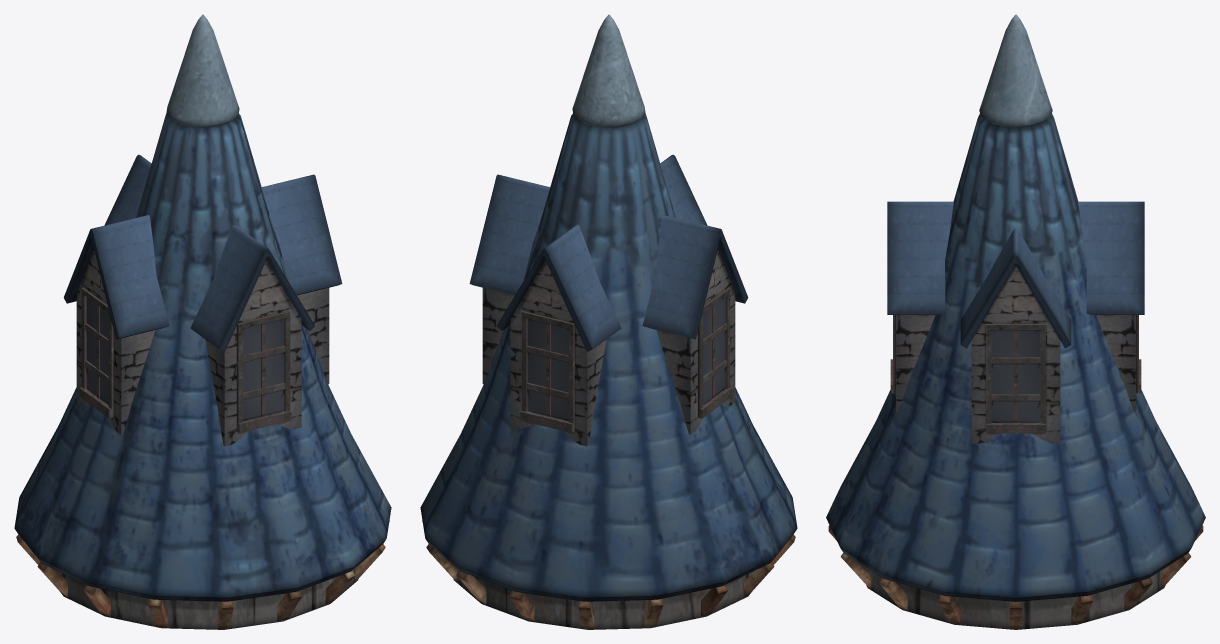
Rendered from sb_obj_outdoor002_DemonsCastle01_CircleWallTop01.fbx.
3 views of the same model, side by side, from view 1: azimuth 30°, elevation 25°; view 2: azimuth 150°, elevation 25°; view 3: azimuth 270°, elevation 25° (orthographic).
Parts seen in each view (by area): view 1: sb_obj_outdoor002_DemonsCastle01_CircleWallTop01; view 2: sb_obj_outdoor002_DemonsCastle01_CircleWallTop01; view 3: sb_obj_outdoor002_DemonsCastle01_CircleWallTop01.
Part boxes in pixels (<box>): sb_obj_outdoor002_DemonsCastle01_CircleWallTop01: <box>14,14,391,629</box>; sb_obj_outdoor002_DemonsCastle01_CircleWallTop01: <box>420,14,797,629</box>; sb_obj_outdoor002_DemonsCastle01_CircleWallTop01: <box>826,14,1205,629</box>.
Bounding box in the file's own units: 3.72 × 5.92 × 3.72.
